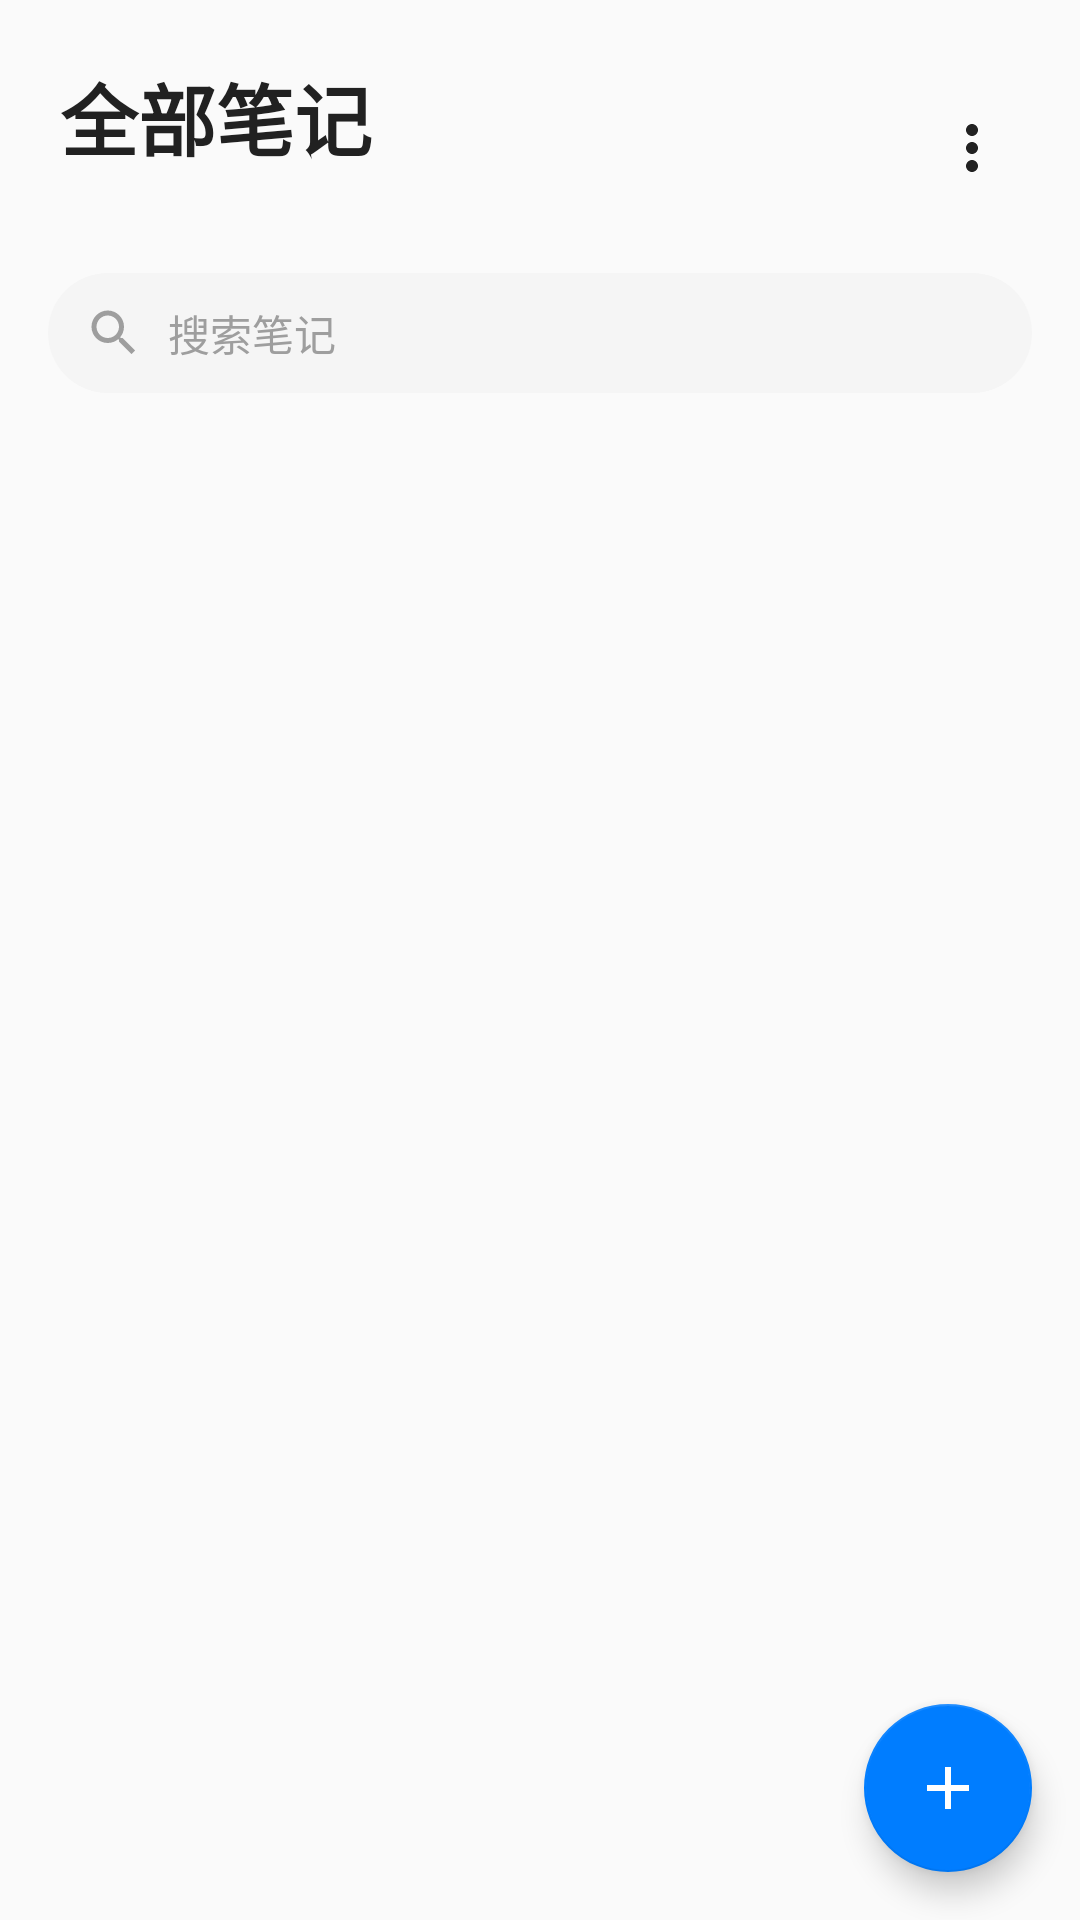

Screen size 1080px×1920px. Icon name, then its box in pixels as (x1, y1, x2, y2):
search: (91, 310, 135, 354)
新建笔记: (864, 1704, 1032, 1872)
更多: (966, 124, 978, 172)
